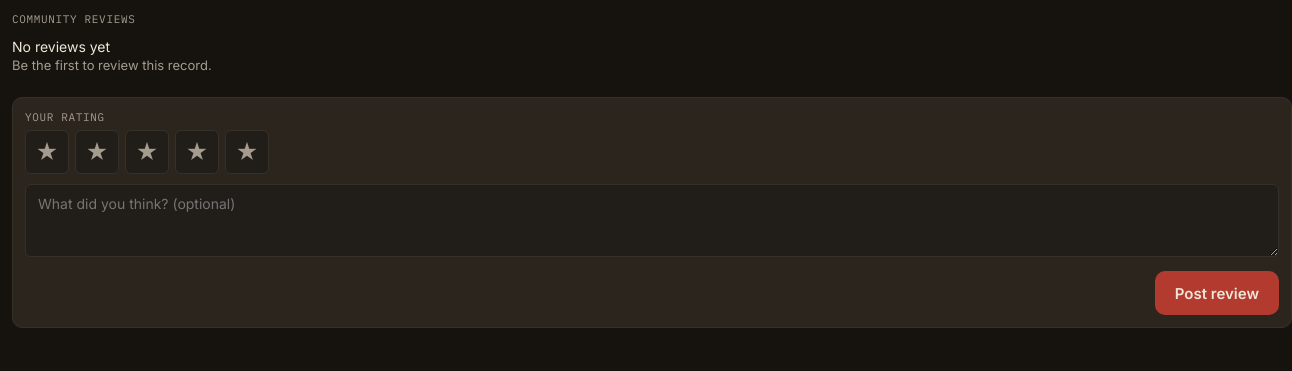
ReviewsSection › falls back to a generic inline message for unknown errors
Click the button named "Rate 3 out of 5" at [147, 152], box [125,130,169,174]
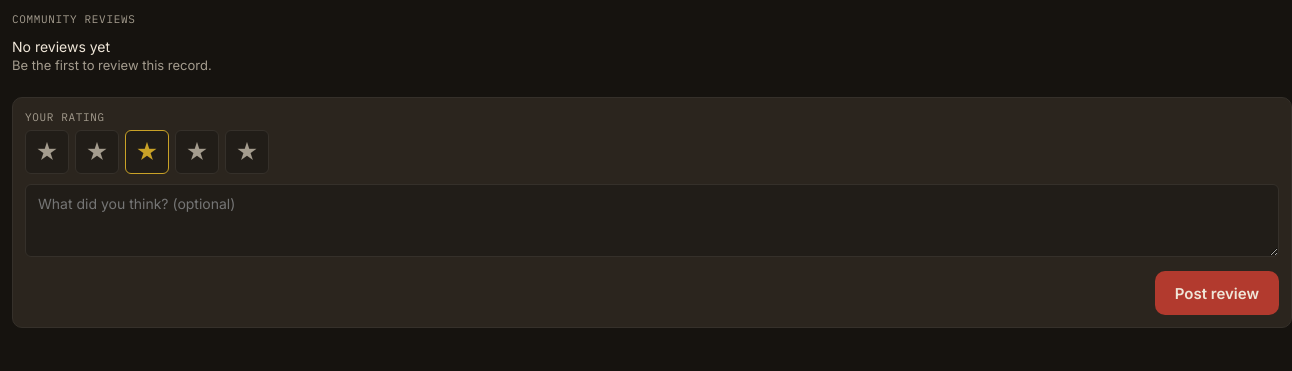
Click the button "Post review" at [1217, 293], box [1155,271,1279,315]
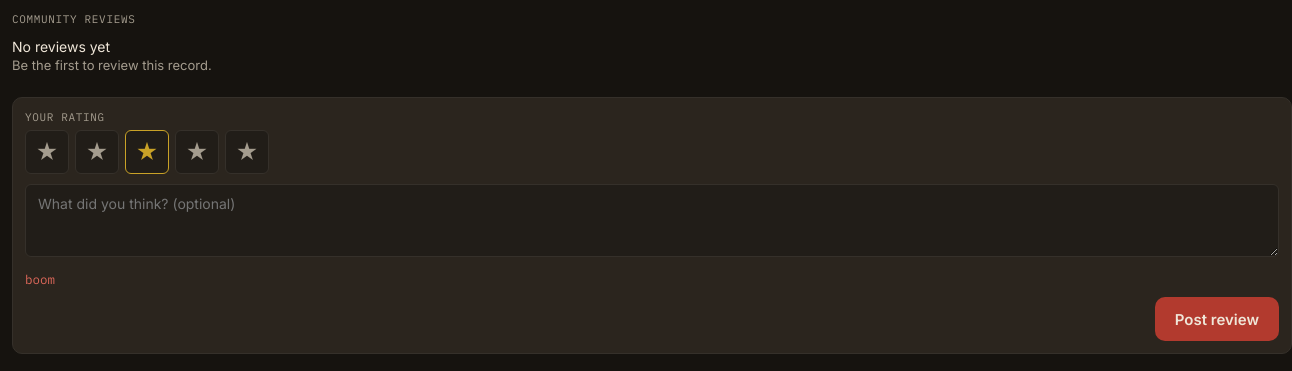
Expected: the message reads "boom", [25,271,55,287]
